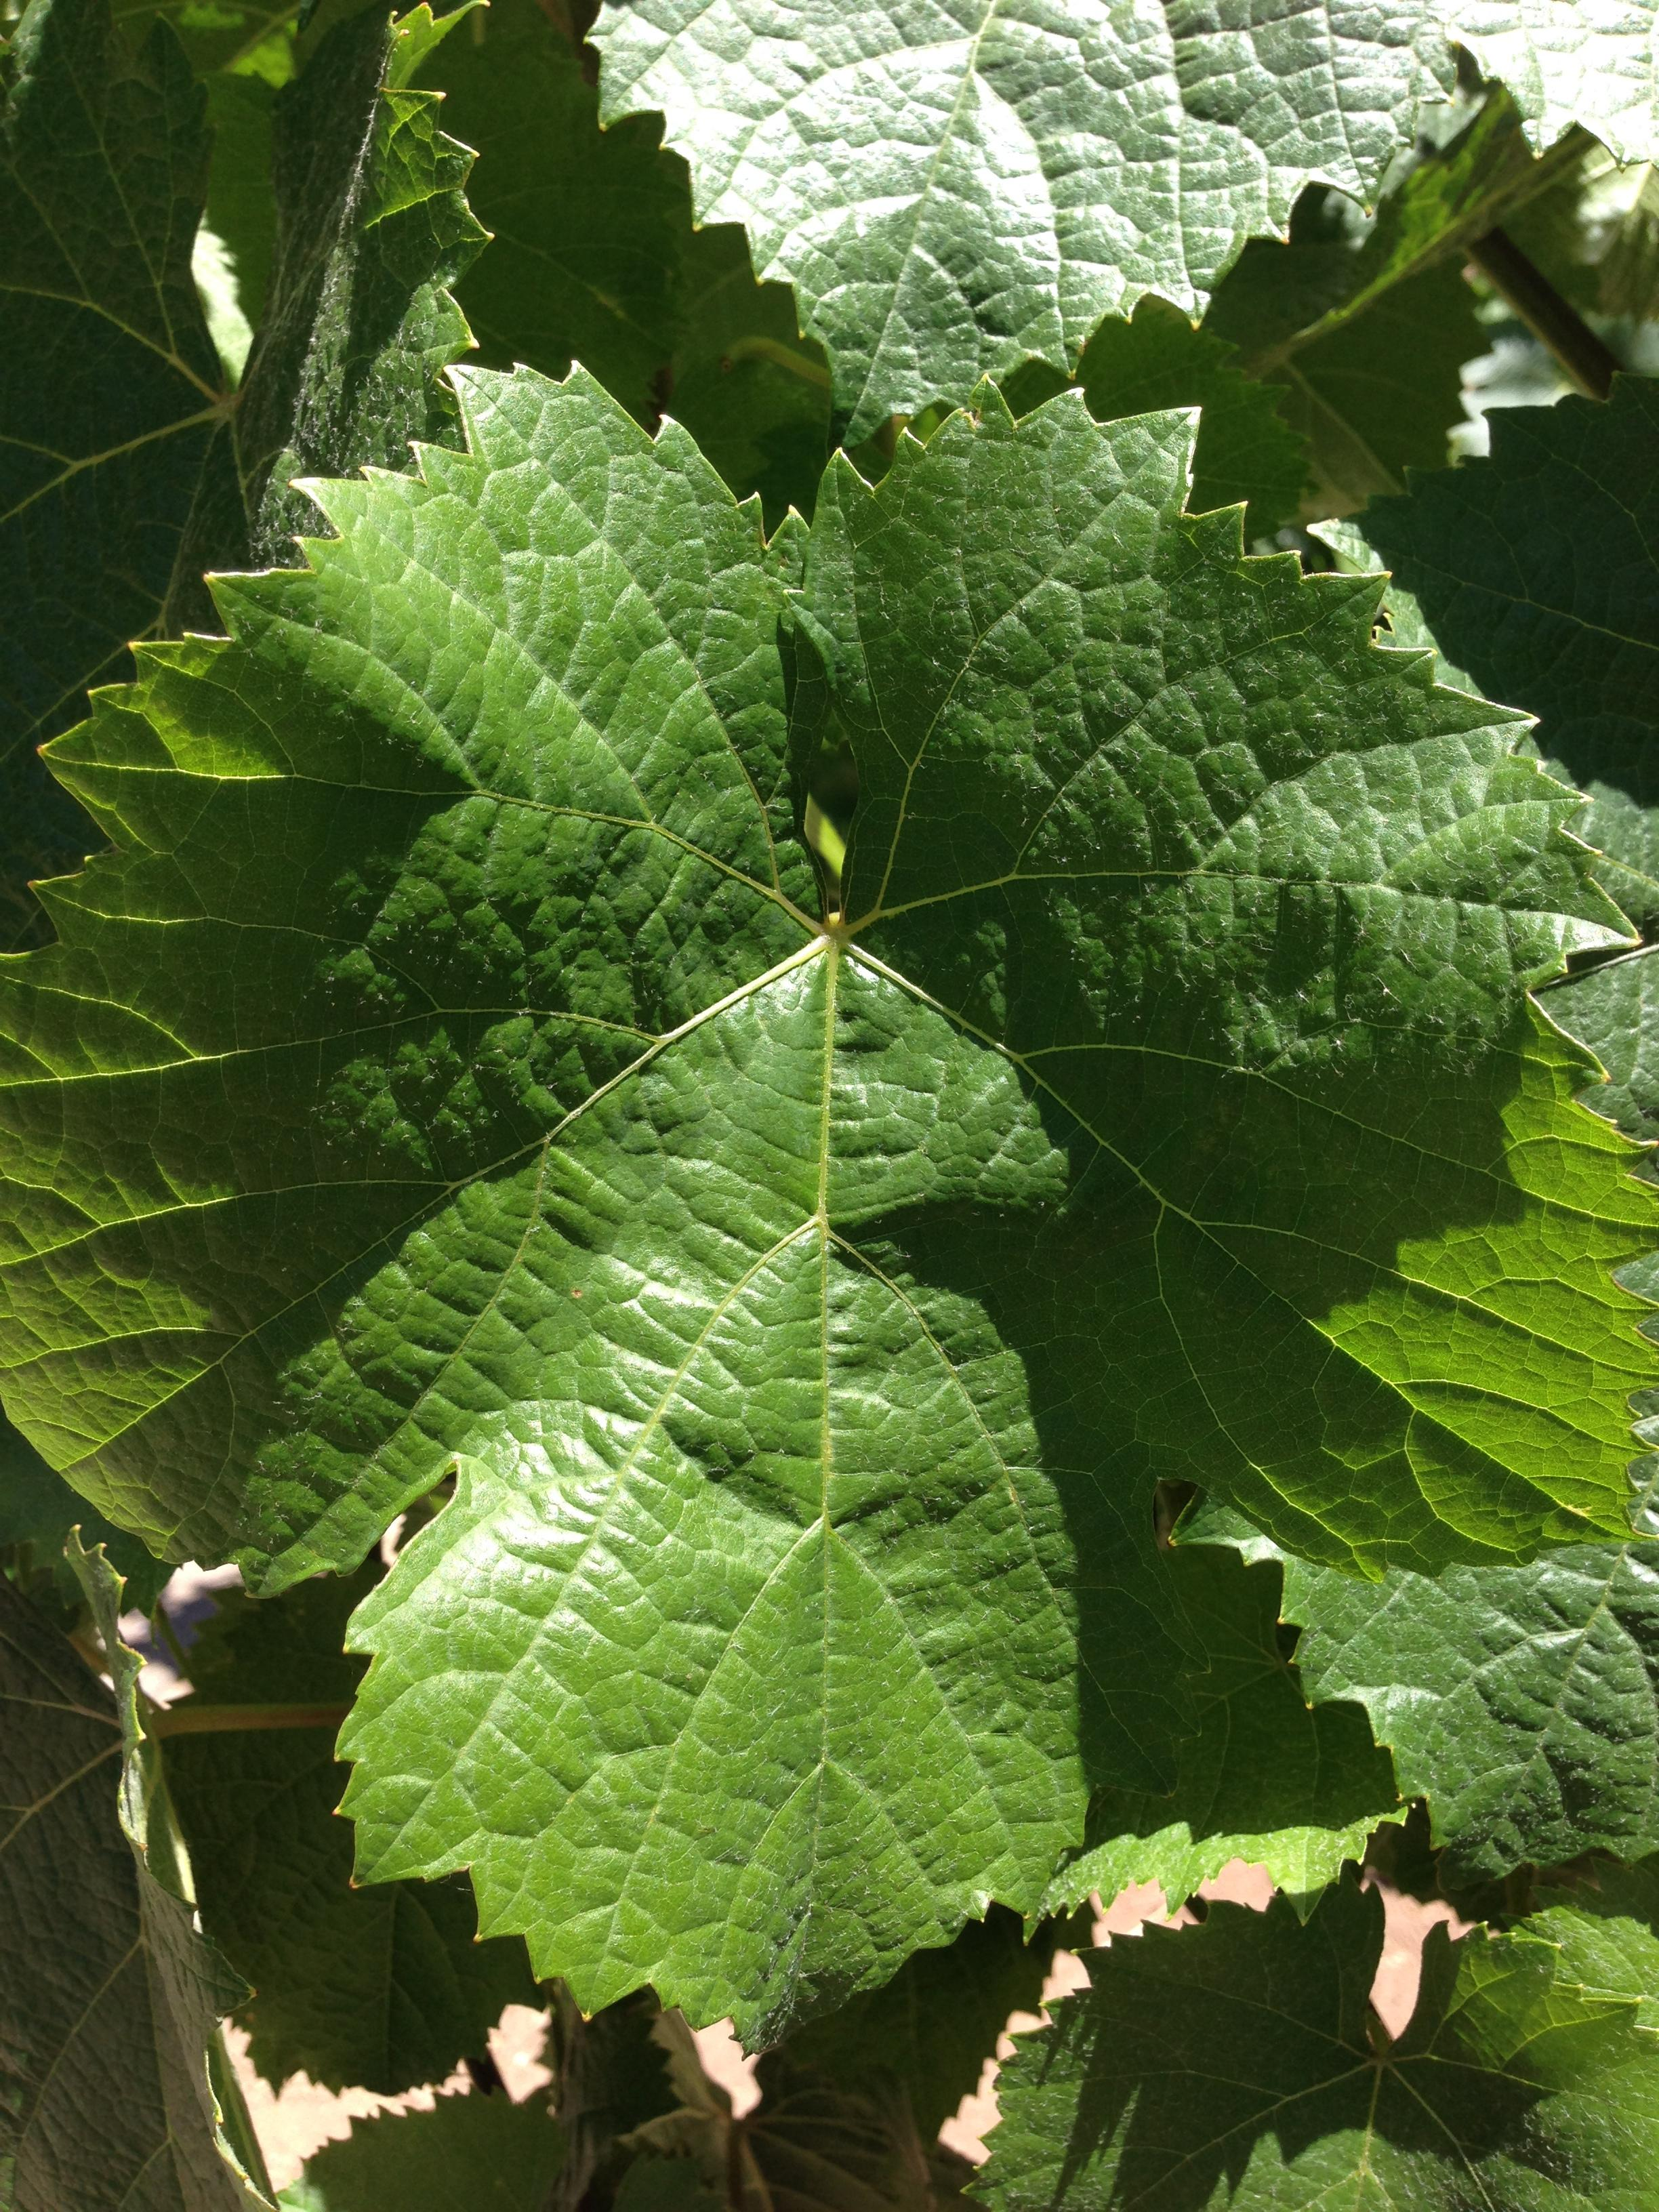grape leaf black rot: (0, 371, 1631, 2052)
